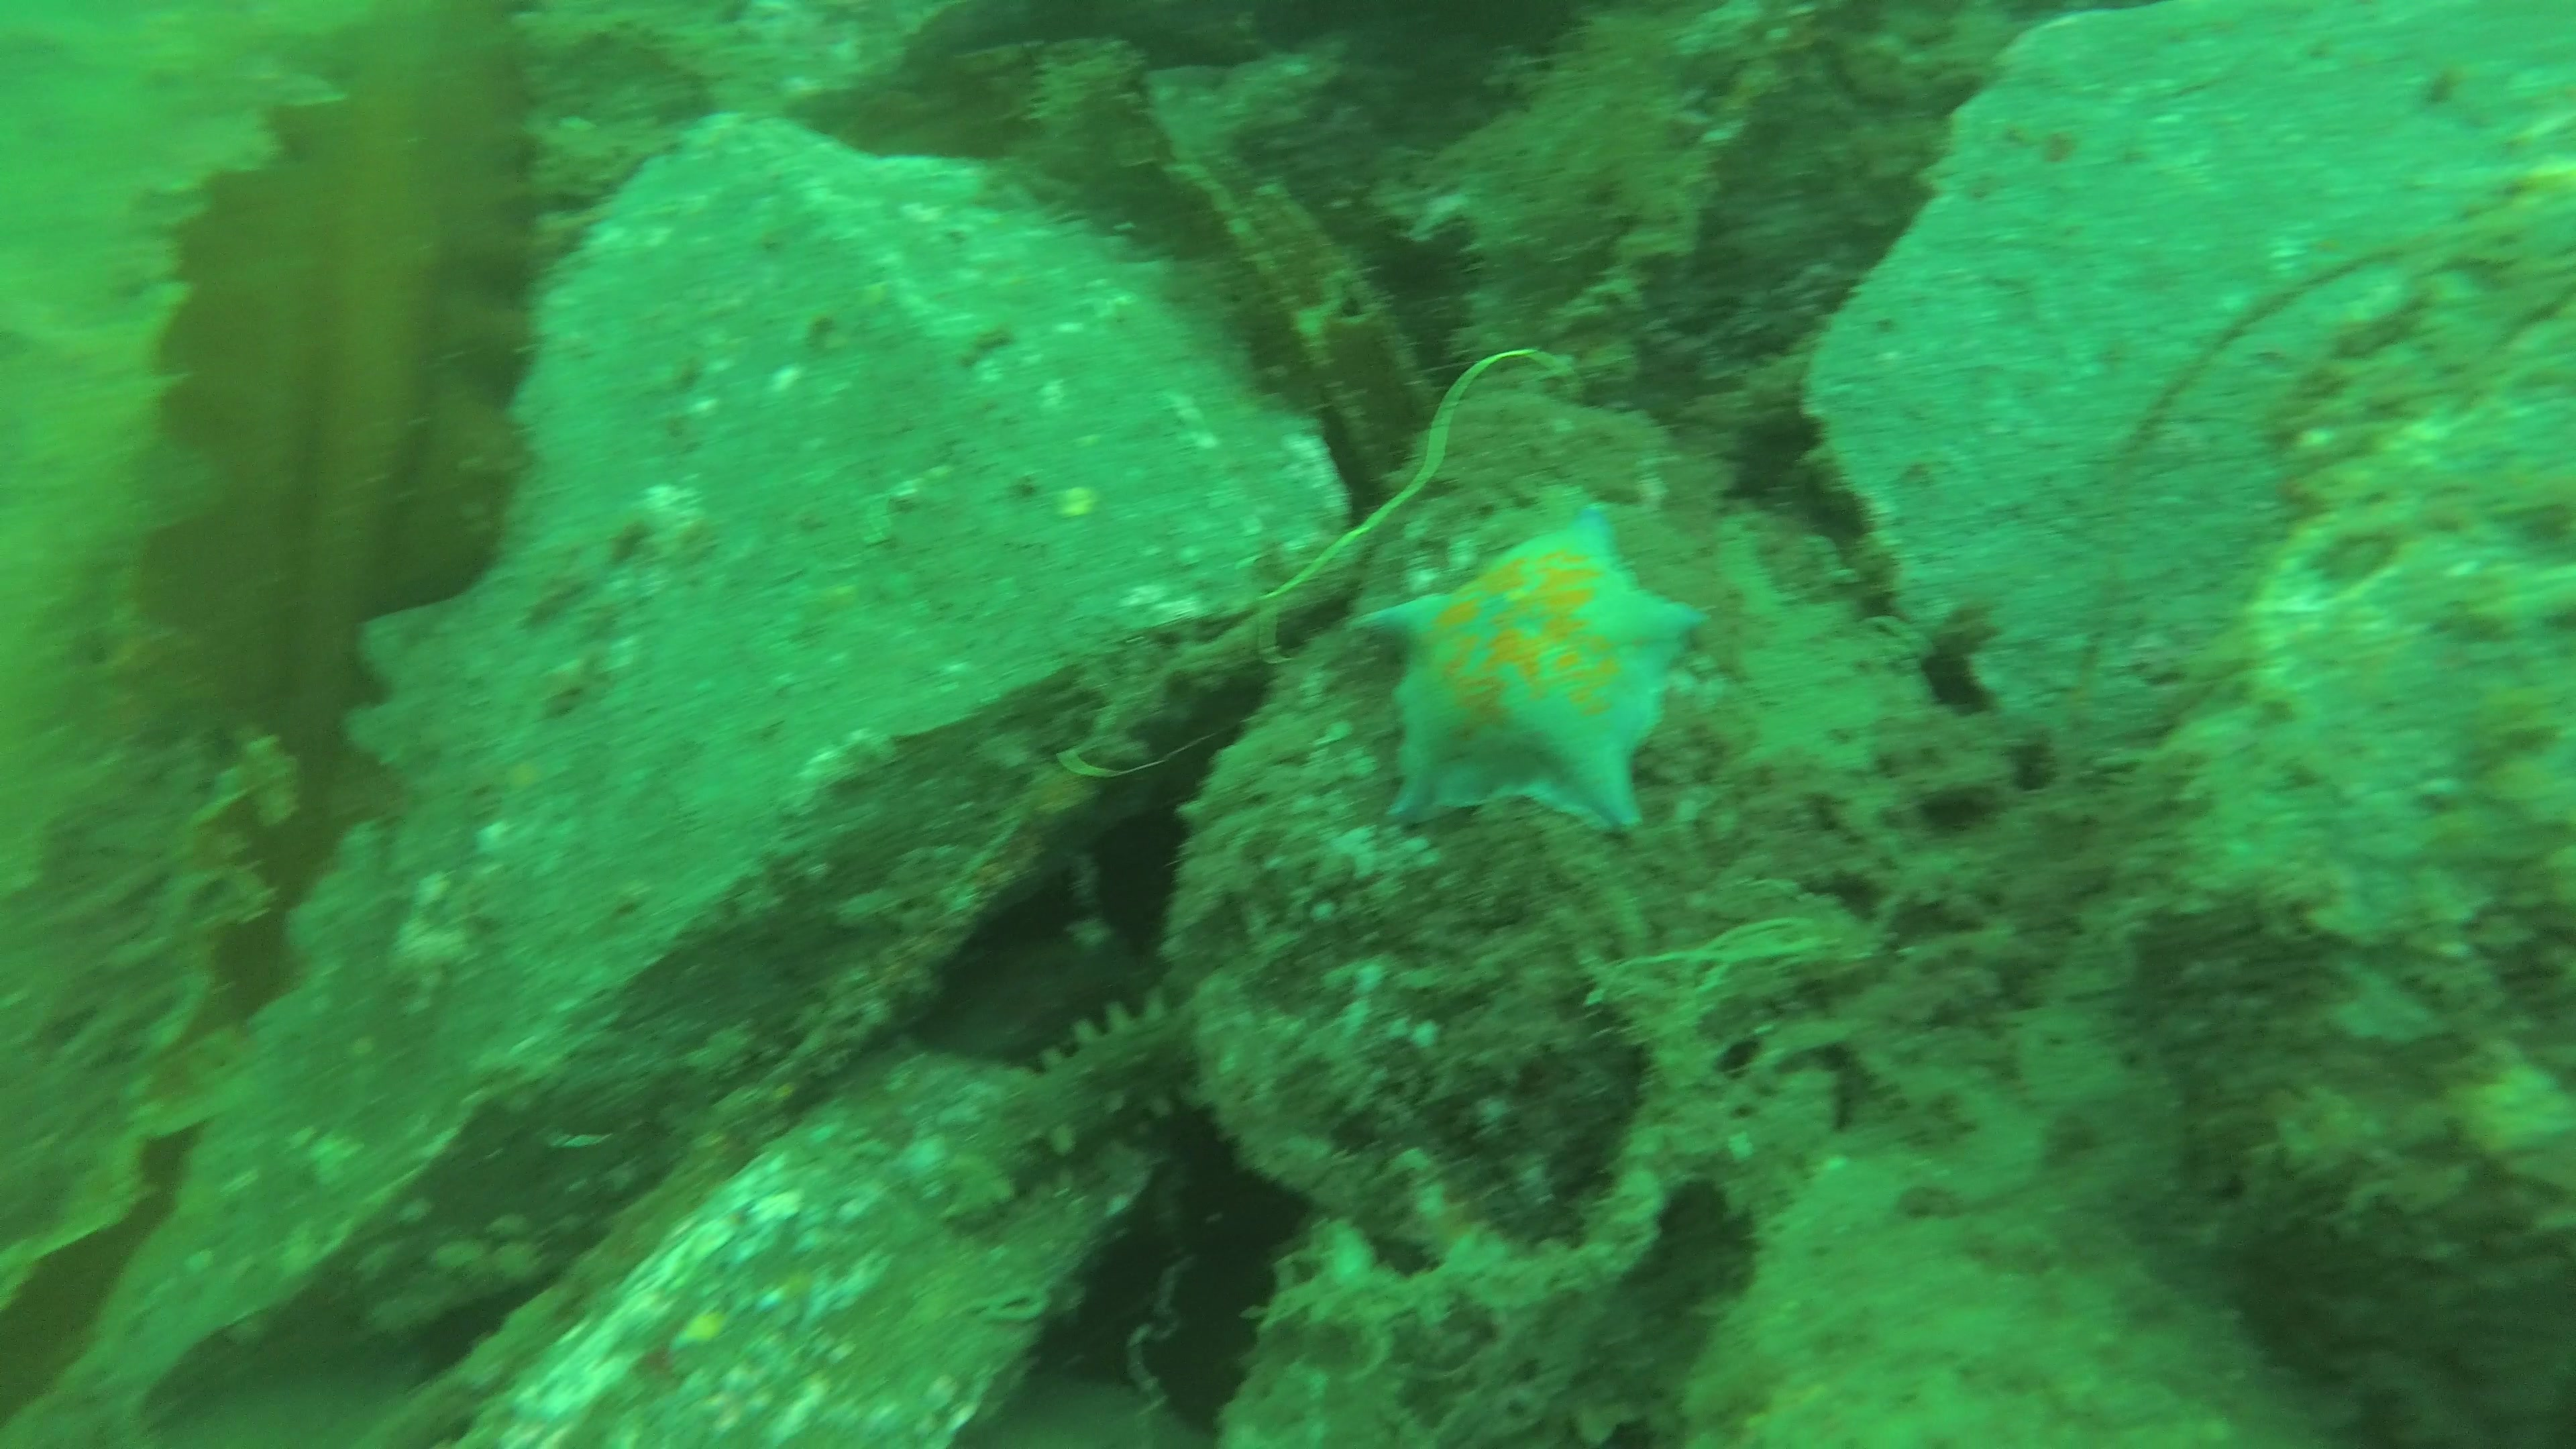holothurian: (924, 998, 1221, 1231)
starfish: (1348, 501, 1709, 833)
